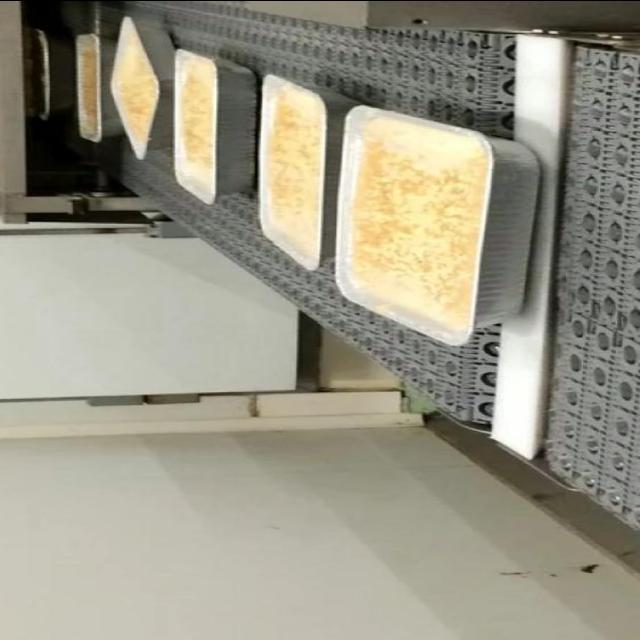food: (333, 104, 543, 346), (256, 73, 366, 271), (170, 48, 260, 206), (107, 14, 177, 160)
